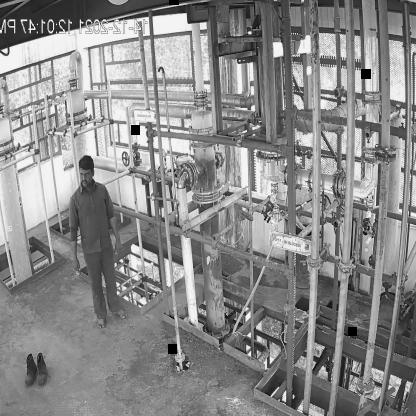no_shoes: (112, 308, 130, 319), (97, 317, 108, 331)
shoes: (33, 351, 49, 387), (23, 354, 36, 385)
